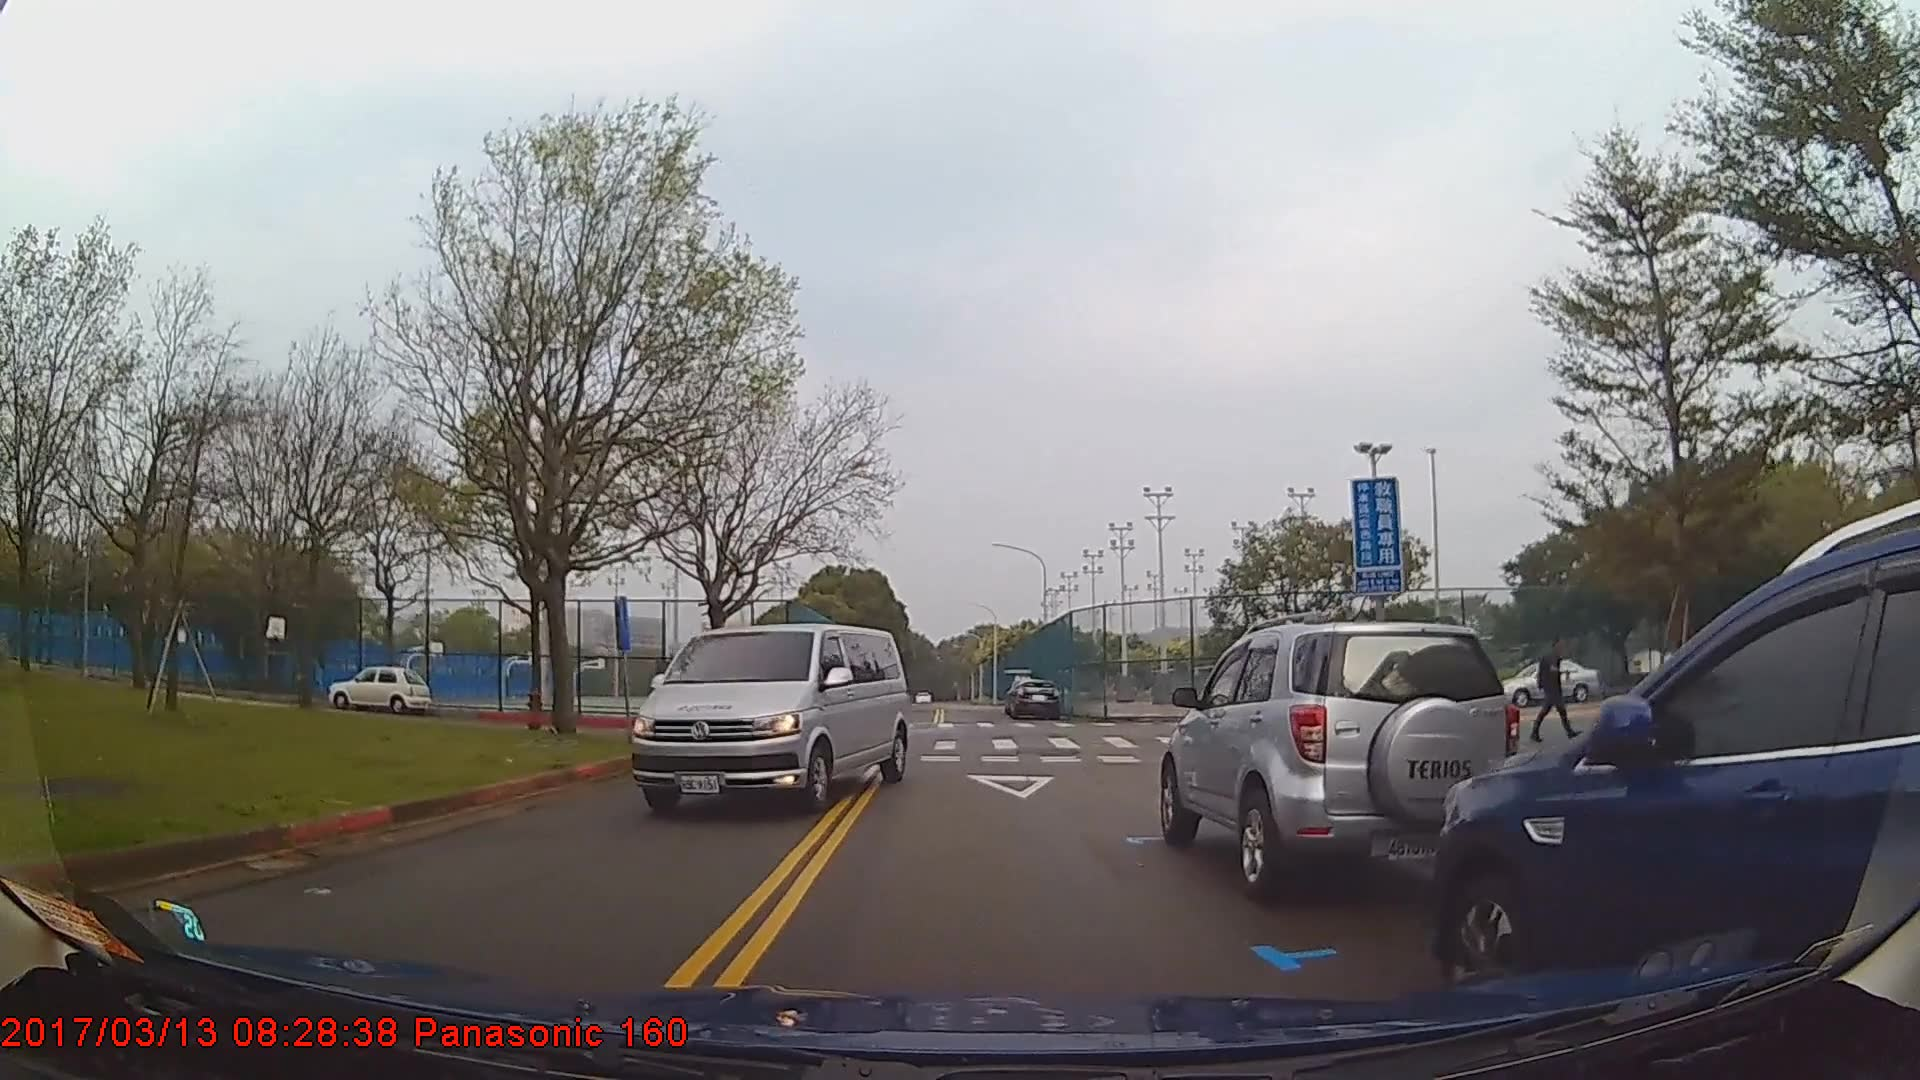pedestrian: (1527, 624, 1583, 746)
vehicle: (1429, 527, 1920, 1018), (1157, 621, 1521, 900), (629, 622, 910, 818), (1492, 657, 1601, 706), (326, 664, 431, 714), (1009, 676, 1062, 719)
